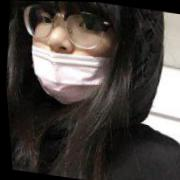WRONG: (20, 1, 135, 113)
